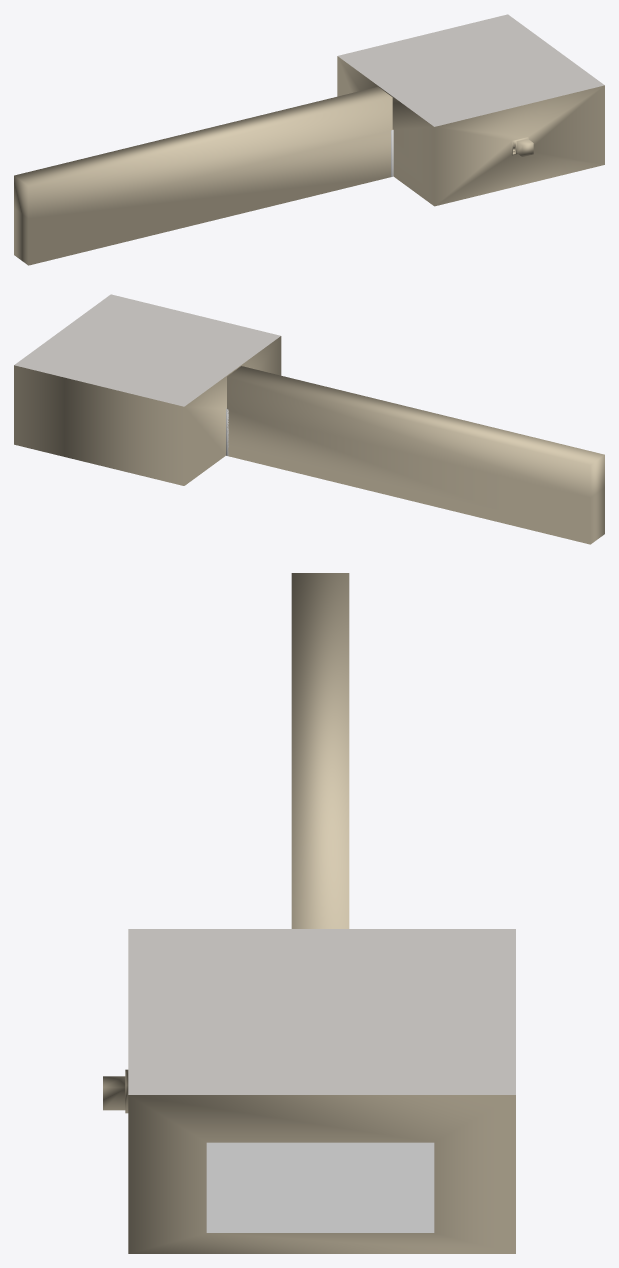
Rendered from Level1.fbx.
3 views of the same model, one above another, from view 1: azimuth 30°, elevation 25°; view 2: azimuth 150°, elevation 25°; view 3: azimuth 270°, elevation 25° (orthographic). The views are drawn at different scales.
Visible parts, largest first — view 1: Cube, Cube_007; view 2: Cube, Cube_007; view 3: Cube_007, Cube, Cube_013.
Part boxes in pixels (x1,y1,x2,y2): Cube: (14,56,604,265); Cube_007: (338,14,604,126); Cube: (14,336,604,544); Cube_007: (14,294,280,406); Cube_007: (128,929,515,1094); Cube: (103,573,515,1253); Cube_013: (206,1142,434,1232).
Size of the model in its own units: 50.28 by 7.13 by 16.81.
